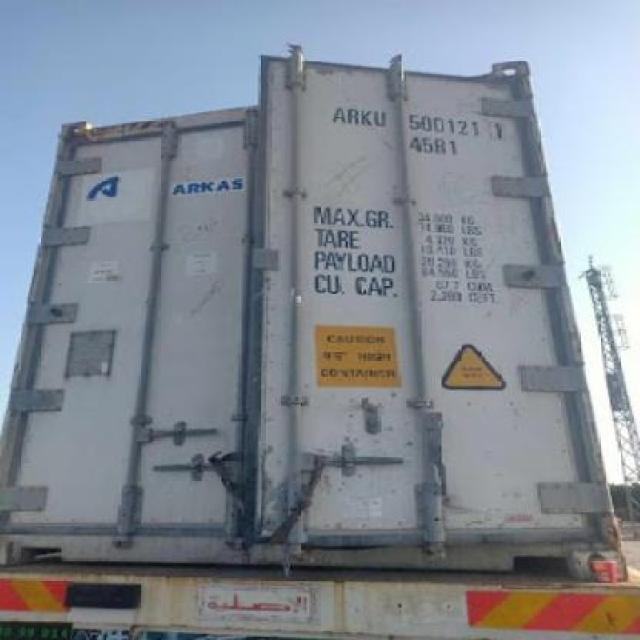ISO: (411, 137, 457, 155)
container_number: (346, 112, 502, 134)
